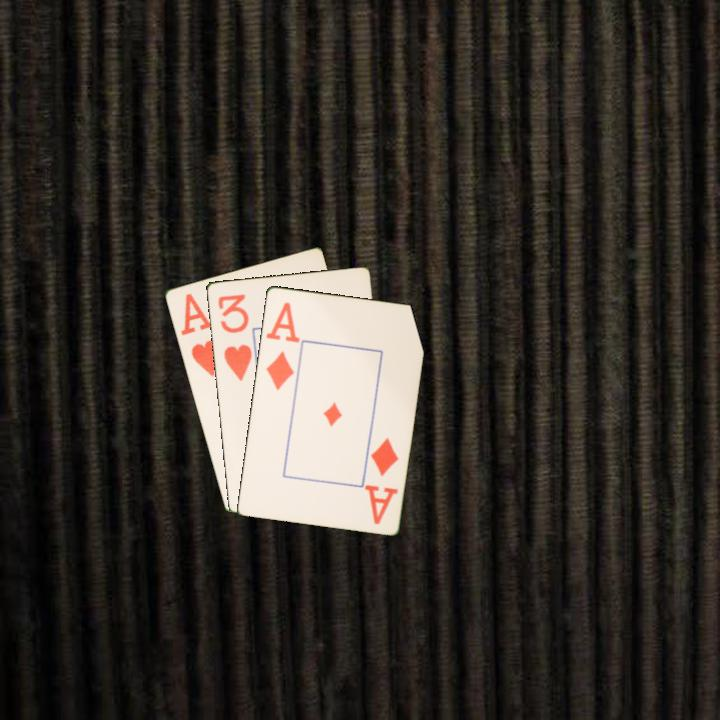3h: (214, 290, 255, 383)
Ad: (262, 298, 302, 393), (362, 433, 401, 527)
Ah: (177, 289, 222, 380)
